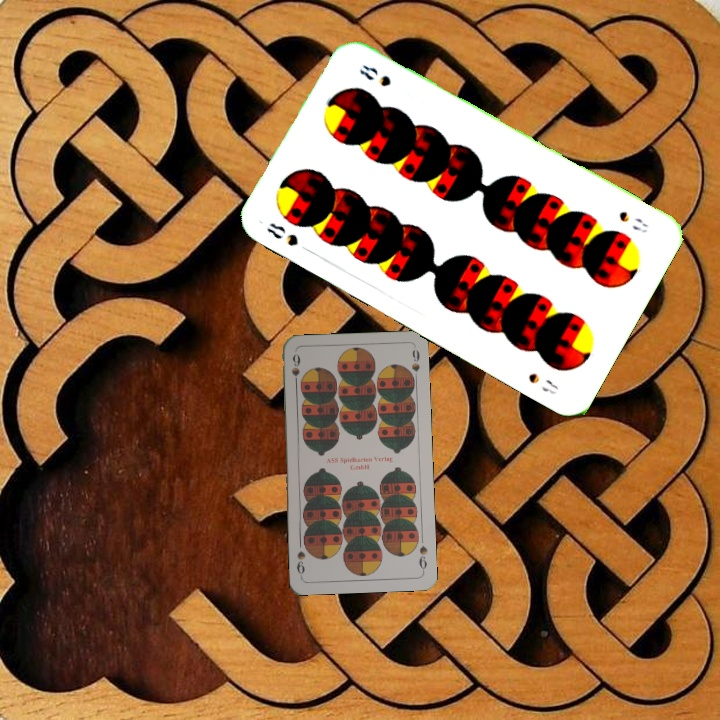S8: (263, 218, 301, 249), (615, 207, 650, 236)
S9: (287, 350, 303, 390), (415, 541, 430, 574)
